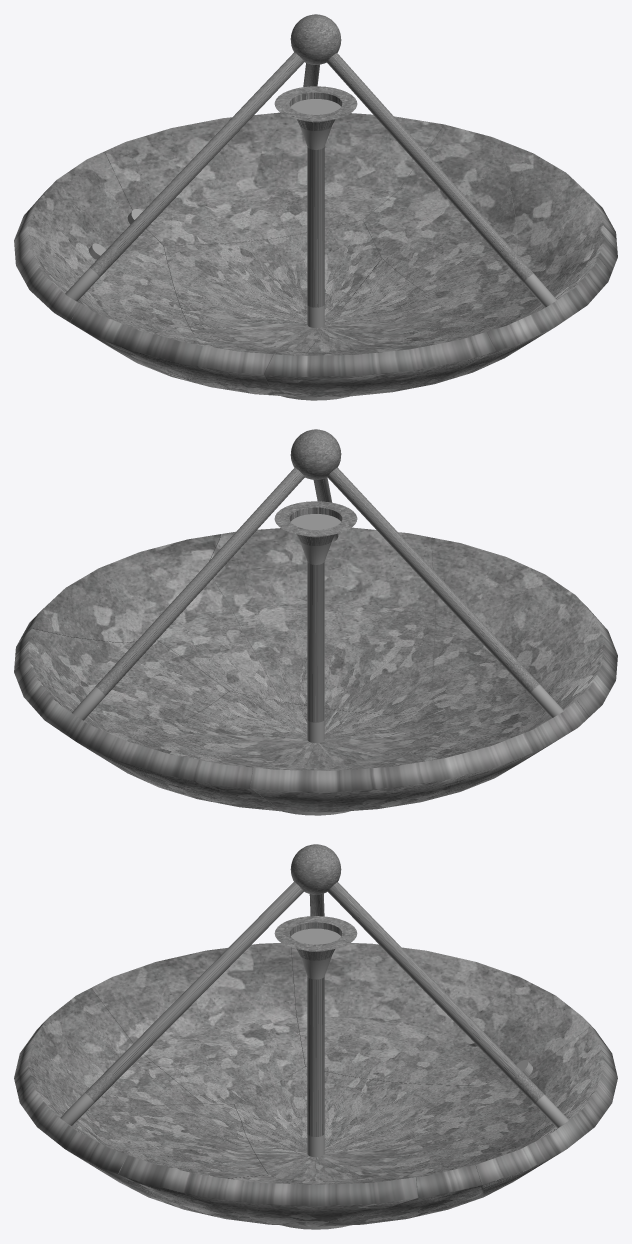
File: Satelliteblend-fractured.fbx
3 renders of one model, top to bottom at view 1: azimuth 30°, elevation 25°; view 2: azimuth 150°, elevation 25°; view 3: azimuth 270°, elevation 25°, orthographic.
Parts seen in each view (by area): view 1: Sphere_cell.003, Sphere_cell.001, Sphere_cell.004, Sphere_cell.007, Sphere_cell, Sphere_cell.009, Sphere_cell.002, Sphere_cell.006, Cylinder, Cylinder.002, Cylinder.003, Sphere_cell.005 (+2 smaller); view 2: Sphere_cell, Sphere_cell.004, Sphere_cell.002, Sphere_cell.006, Sphere_cell.003, Sphere_cell.007, Sphere_cell.009, Sphere_cell.001, Sphere_cell.008, Cylinder, Cylinder.002, Cylinder.001 (+2 smaller); view 3: Sphere_cell.004, Sphere_cell.006, Sphere_cell.001, Sphere_cell, Sphere_cell.003, Sphere_cell.002, Sphere_cell.009, Cylinder, Cylinder.003, Cylinder.001, Sphere_cell.007, Sphere_cell.005 (+2 smaller).
Boxes of the visible parts, box(x1,y1,x2,y2) form: Sphere_cell.003: box(104, 112, 444, 245); Sphere_cell.001: box(163, 220, 381, 355); Sphere_cell.004: box(14, 152, 193, 351); Sphere_cell.007: box(363, 124, 518, 292); Sphere_cell: box(290, 257, 611, 384); Sphere_cell.009: box(500, 140, 617, 272); Sphere_cell.002: box(264, 332, 495, 397); Sphere_cell.006: box(70, 304, 283, 395); Cylinder: box(274, 86, 357, 327); Cylinder.002: box(65, 52, 304, 301); Cylinder.003: box(326, 53, 556, 307); Sphere_cell.005: box(307, 259, 424, 353); Sphere_cell: box(210, 527, 435, 714); Sphere_cell.004: box(250, 700, 589, 812); Sphere_cell.002: box(431, 537, 596, 690); Sphere_cell.006: box(426, 604, 617, 741); Sphere_cell.003: box(14, 657, 281, 811); Sphere_cell.007: box(14, 628, 228, 725); Sphere_cell.009: box(19, 534, 221, 642); Sphere_cell.001: box(145, 710, 448, 770); Sphere_cell.008: box(157, 579, 281, 701); Cylinder: box(274, 501, 357, 742); Cylinder.002: box(327, 467, 563, 717); Cylinder.001: box(72, 467, 304, 720); Sphere_cell.004: box(291, 943, 601, 1085); Sphere_cell.006: box(91, 943, 304, 1104); Sphere_cell.001: box(234, 1066, 483, 1180); Sphere_cell: box(17, 1077, 268, 1201); Sphere_cell.003: box(442, 1027, 617, 1204); Sphere_cell.002: box(14, 988, 201, 1106); Sphere_cell.009: box(118, 1155, 417, 1225); Cylinder: box(274, 916, 357, 1157); Cylinder.003: box(60, 882, 303, 1125); Cylinder.001: box(328, 882, 568, 1127); Sphere_cell.007: box(299, 1165, 481, 1226); Sphere_cell.005: box(241, 1121, 376, 1185).
Size of the model in its own units: 334 by 217 by 334.
